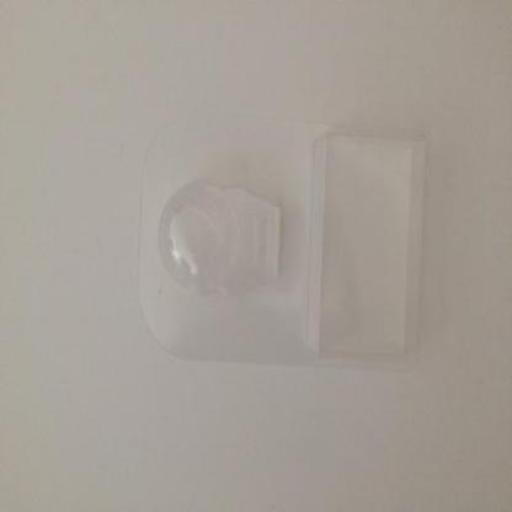plastic: (136, 118, 426, 364)
